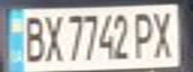2: (112, 9, 133, 61)
4: (96, 10, 115, 61)
7: (63, 11, 84, 62), (81, 10, 100, 61)
B: (18, 11, 48, 63)
P: (130, 8, 157, 60)
X: (148, 7, 181, 60), (39, 11, 66, 63)
